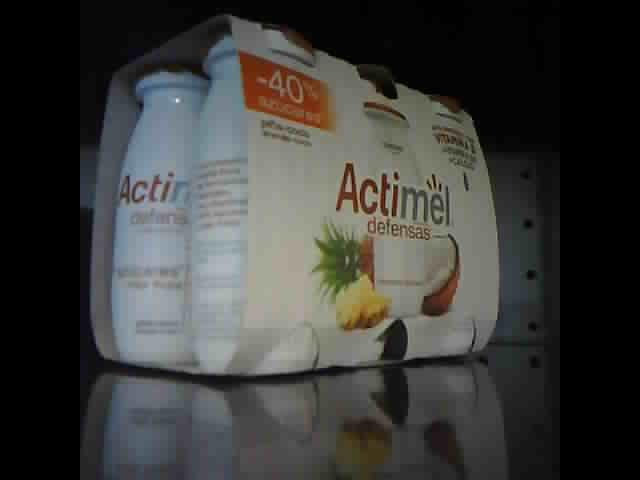actimel: (88, 14, 502, 379)
